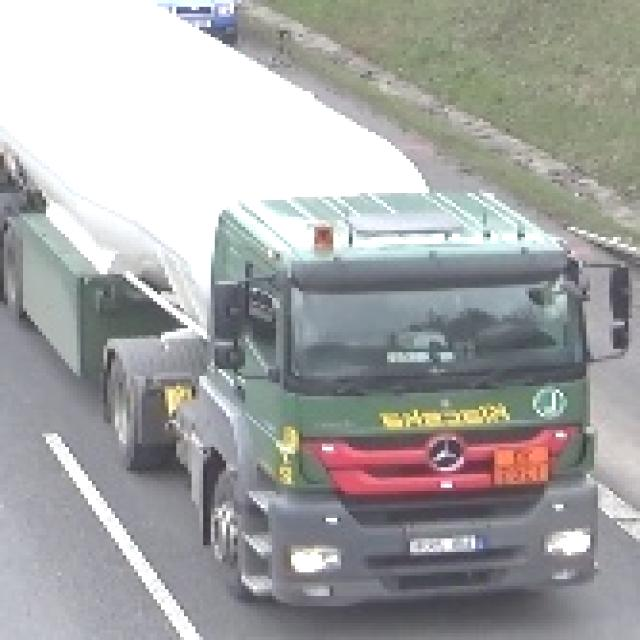TRUCK: (0, 0, 589, 618)
